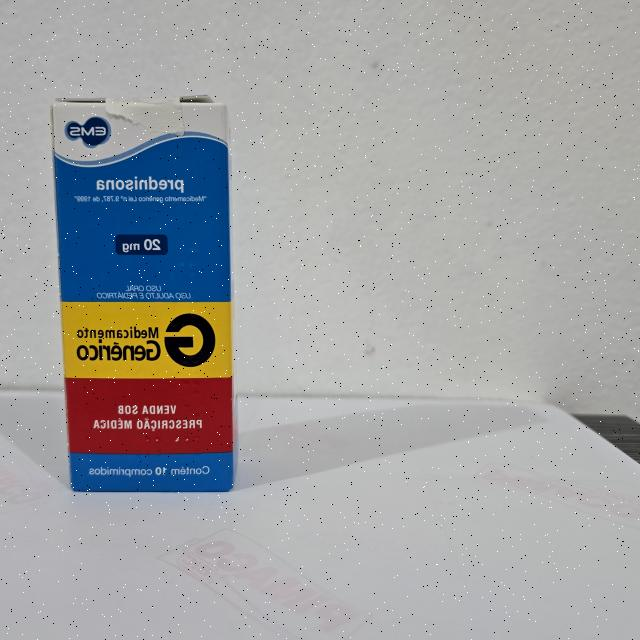prednisona: (48, 92, 242, 497)
